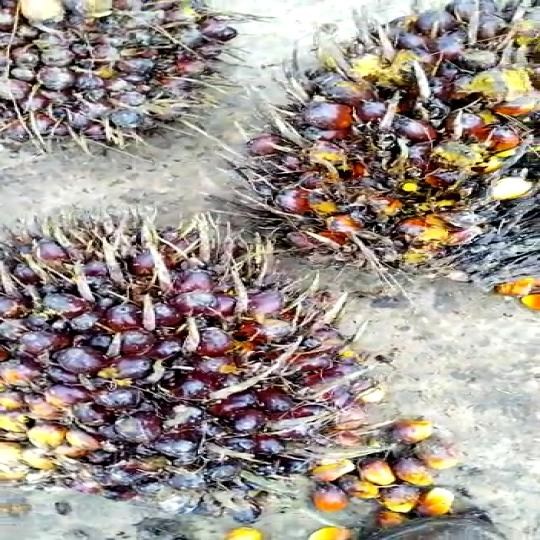masak: (0, 204, 354, 493), (262, 0, 538, 285), (0, 0, 233, 150)
